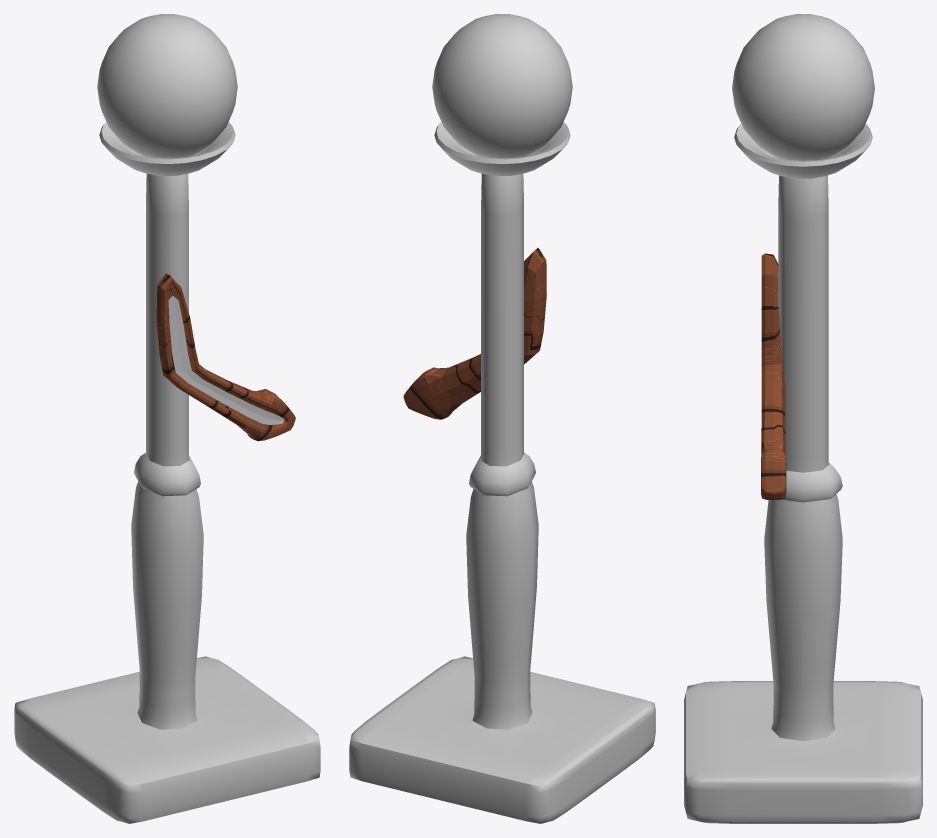
File: street lamp.fbx
3 renders of one model, left to right at view 1: azimuth 30°, elevation 25°; view 2: azimuth 150°, elevation 25°; view 3: azimuth 270°, elevation 25°, orthographic.
Parts seen in each view (by area): view 1: Cube.033; view 2: Cube.033; view 3: Cube.033.
Boxes of the visible parts, bbox=[...] form: Cube.033: bbox=[14, 14, 320, 823]; Cube.033: bbox=[349, 14, 655, 823]; Cube.033: bbox=[684, 14, 922, 823].
Bounding box in the file's own units: 16.52 × 55.29 × 15.84.
